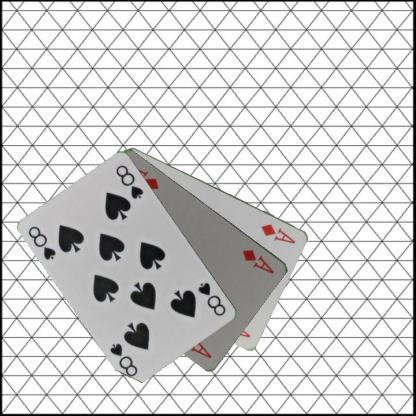8s: (26, 223, 58, 262), (195, 280, 228, 317)
Ad: (240, 247, 275, 275), (258, 221, 297, 245)
